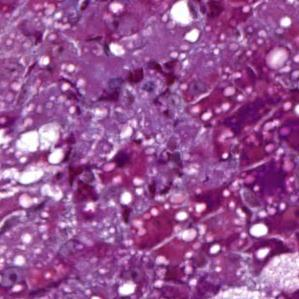ballooning: (212, 250, 299, 299)
